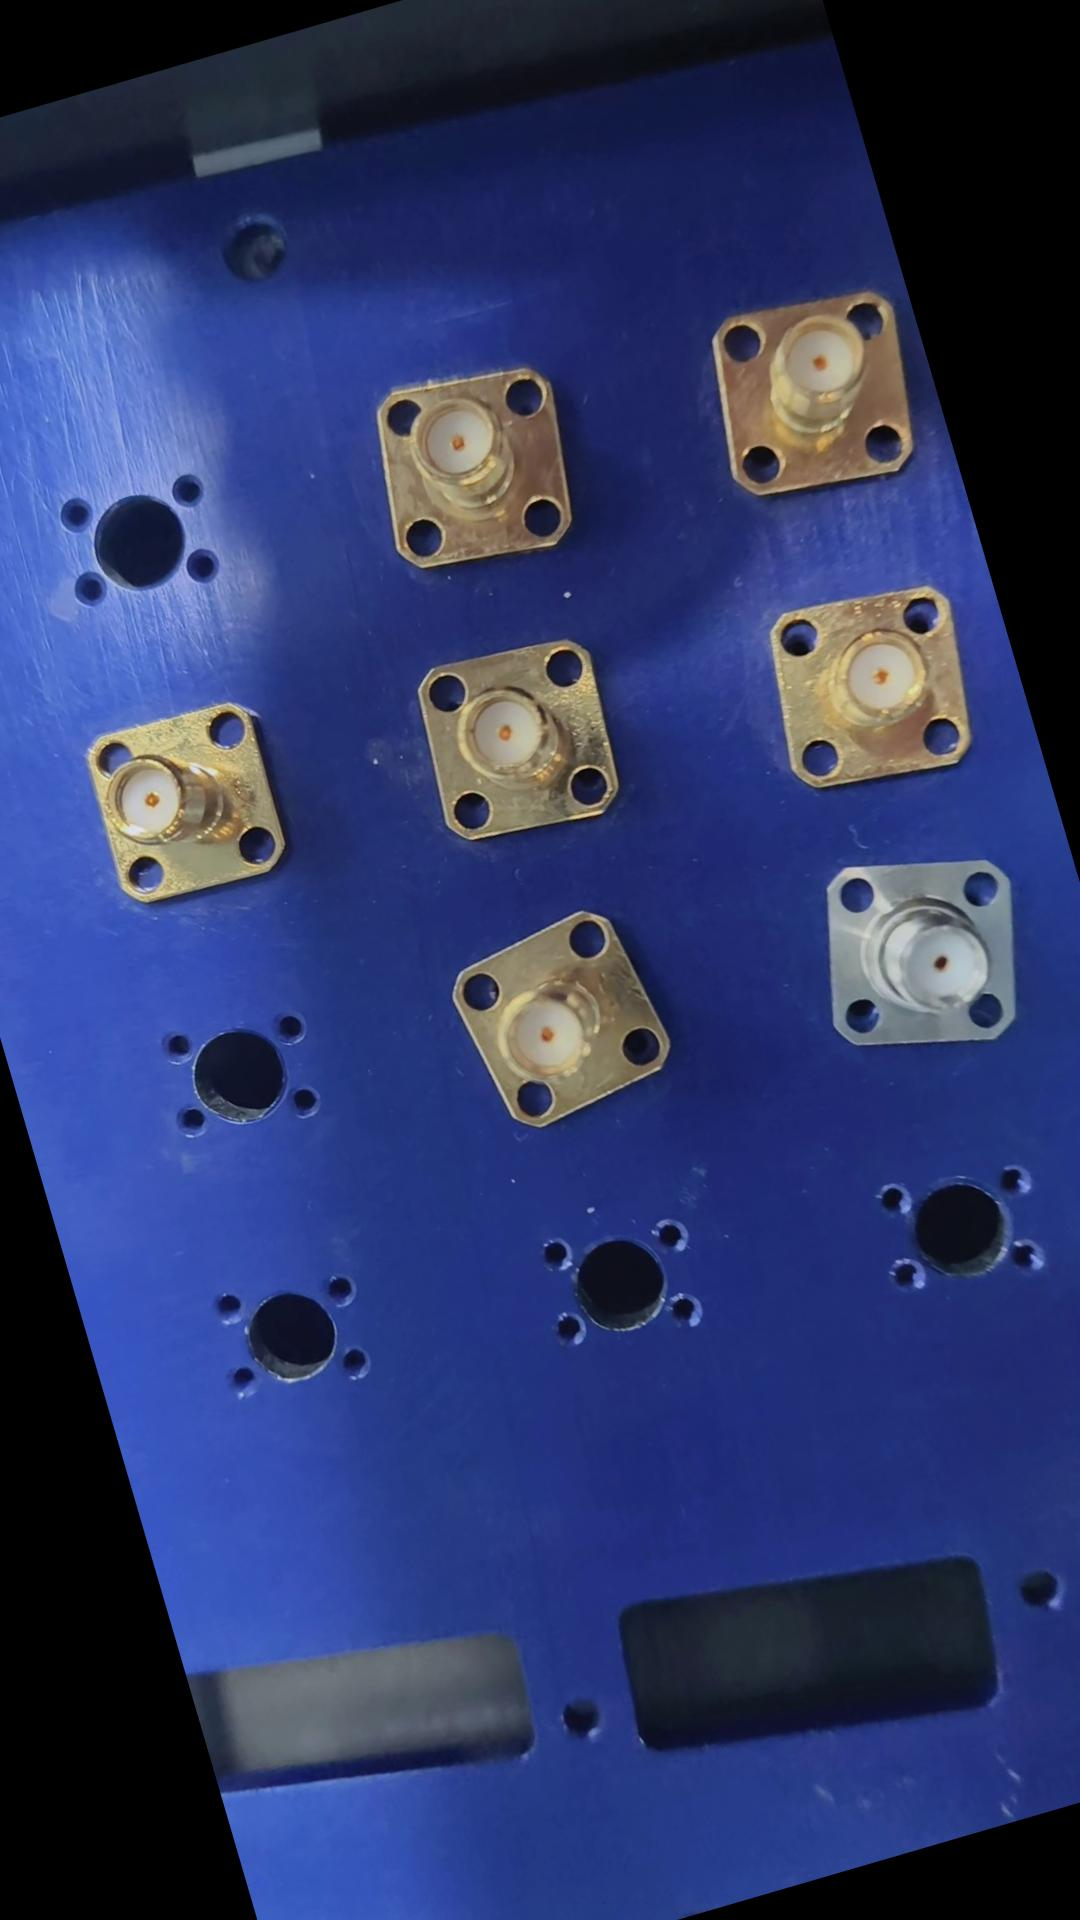SMA: (770, 819, 1048, 1095), (736, 564, 989, 825), (384, 621, 642, 874), (426, 893, 682, 1147), (678, 284, 939, 529), (338, 344, 597, 589), (62, 687, 301, 923)
